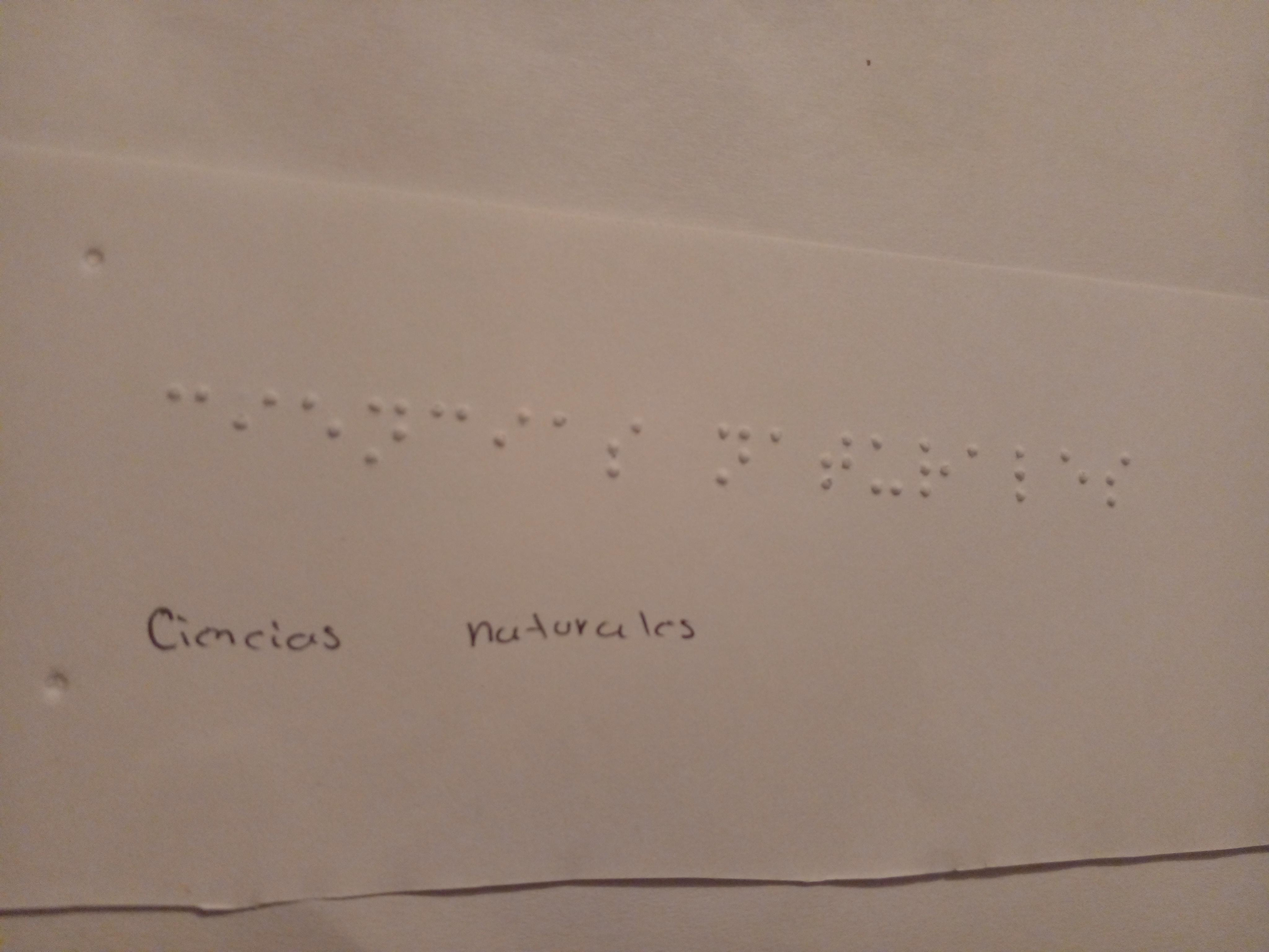a: (542, 397, 587, 466), (957, 434, 993, 487), (762, 417, 798, 465)
c: (147, 364, 222, 440), (426, 386, 471, 456)
e: (296, 377, 350, 469), (1055, 435, 1092, 505)
i: (234, 375, 283, 452), (494, 386, 538, 471)
l: (1008, 431, 1049, 514)
n: (361, 387, 414, 471), (716, 411, 756, 494)
r: (911, 431, 956, 507)
s: (601, 409, 646, 476), (1100, 443, 1143, 513)
t: (813, 415, 860, 504)
u: (867, 431, 908, 504)
